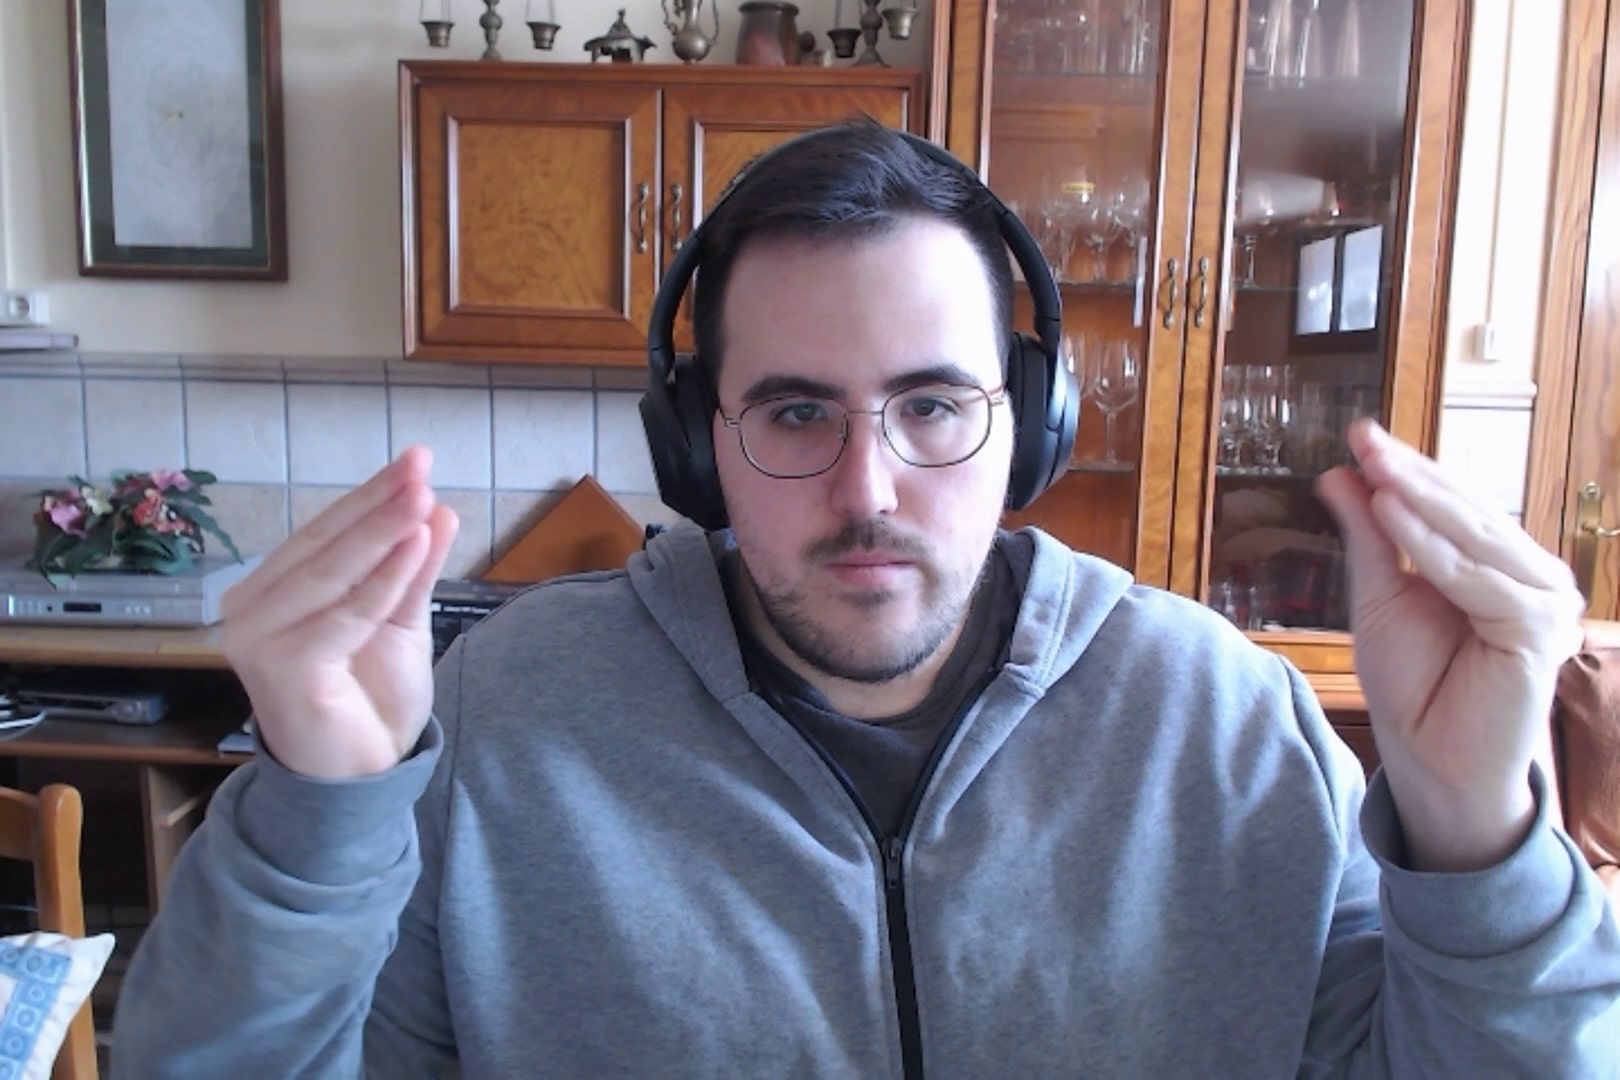hand: (1304, 415, 1595, 813), (215, 439, 464, 778)
